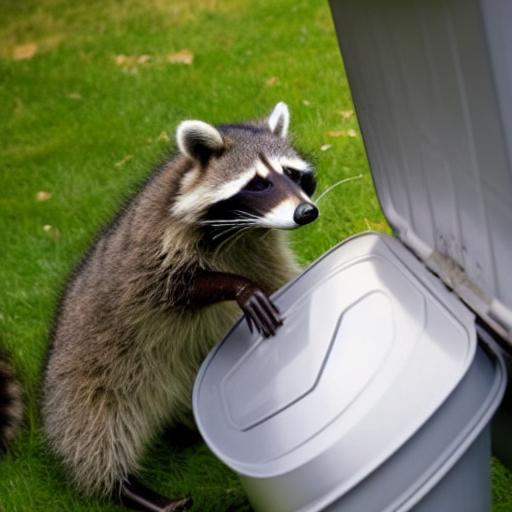raccoon: (28, 98, 331, 498)
